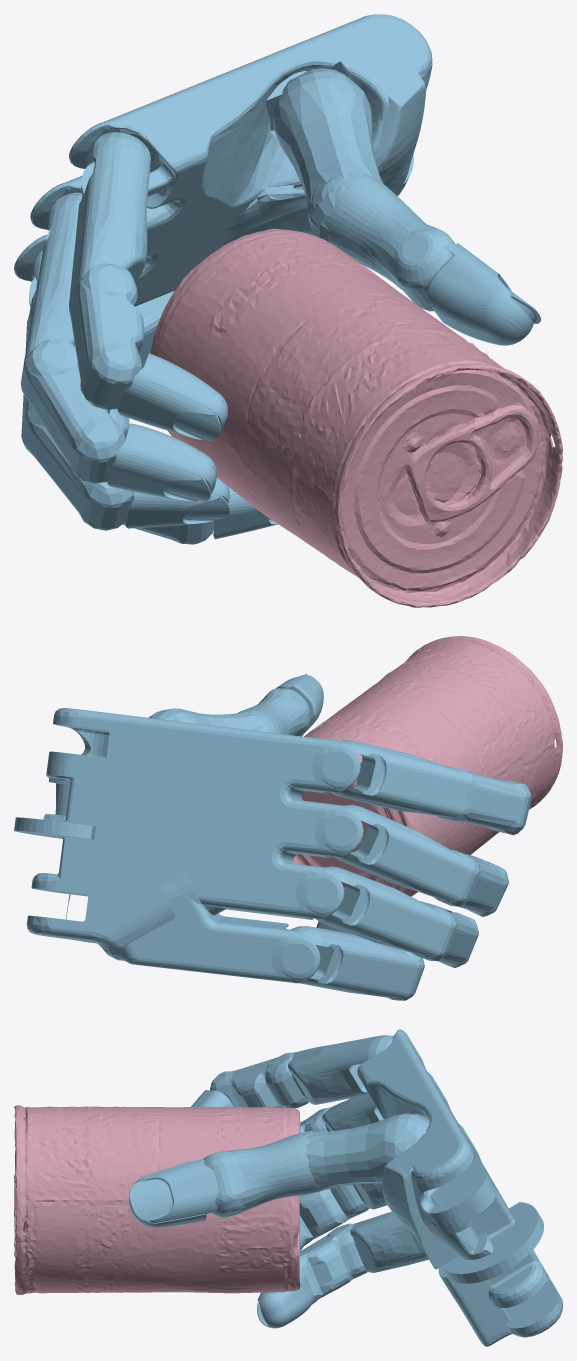
3 views of the same model, one above another, from view 1: azimuth 30°, elevation 25°; view 2: azimuth 150°, elevation 25°; view 3: azimuth 270°, elevation 25° (orthographic). The views are drawn at different scales.
Visible parts, largest first — view 1: world; view 2: world; view 3: world.
Boxes of the visible parts, x1,y1,x2,y2 form: world: (14, 14, 562, 607); world: (14, 636, 562, 1000); world: (14, 1029, 562, 1346).
Bounding box in the file's own units: 0.1483 × 0.1067 × 0.1953.
